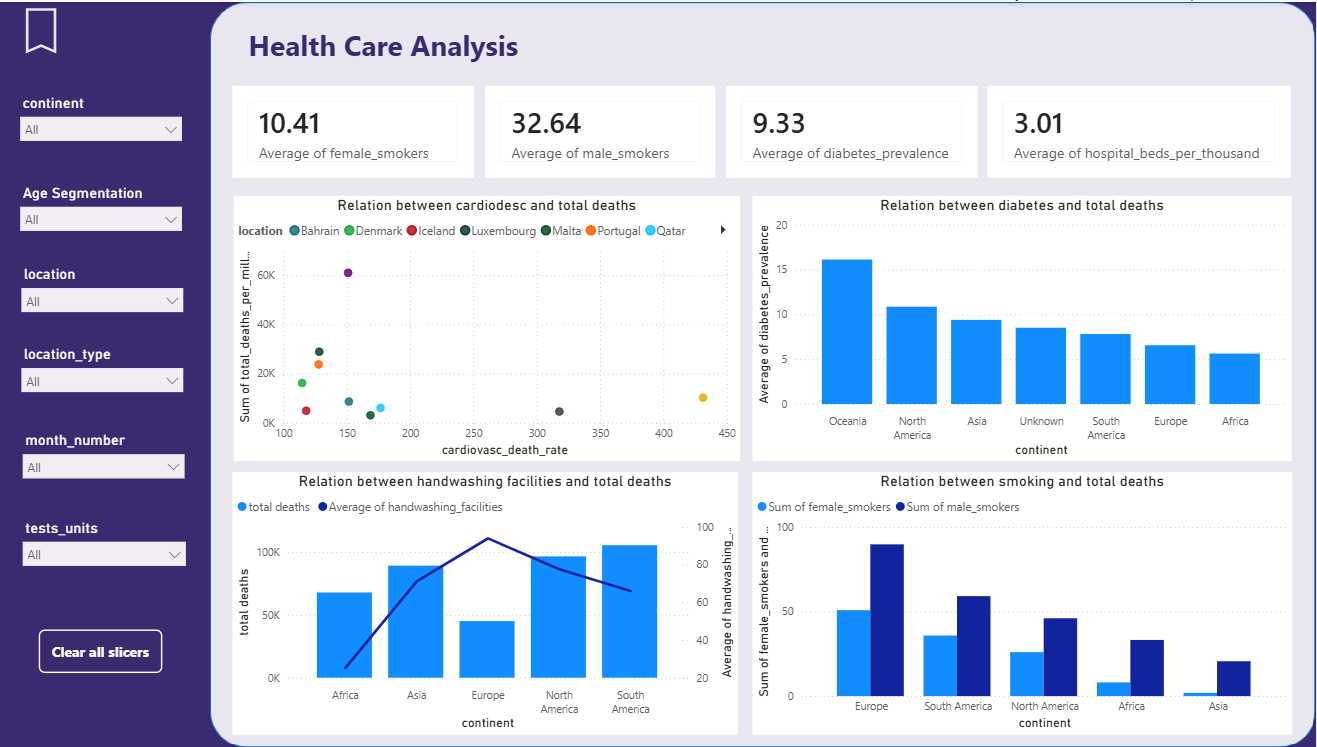

The page's visual inventory and layout, read from the dashboard file:
{"tool":"powerbi","page":{"name":"Health Care","canvas":[1500,850],"ordinal":6},"visuals":[{"type":"shape","box":[239.3,0,1260.5,850.3],"z":0},{"type":"actionButton","box":[15.7,0,132.5,65.5],"z":1000},{"type":"cardVisual","fields":{"Data":["Avg(dim_health.female_smokers)"]},"box":[265.3,94.9,275,104.5],"z":2000},{"type":"cardVisual","fields":{"Data":["Avg(dim_health.male_smokers)"]},"box":[553.2,94.9,262.1,104.5],"z":3000},{"type":"textbox","box":[266.9,22.5,340.9,62.7],"z":4000},{"type":"scatterChart","title":"Relation between cardiodesc and total deaths","fields":{"X":["dim_health.cardiovasc_death_rate"],"Y":["Sum(fact_corona.total_deaths_per_million)"],"Series":["dim_country.location"]},"box":[265.9,220.7,576.9,302.4],"z":5000},{"type":"actionButton","box":[44.2,715,141,49.8],"z":6000},{"type":"clusteredColumnChart","title":"Relation between smoking and total deaths","fields":{"Category":["dim_country.continent"],"Y":["Sum(dim_health.female_smokers)","Sum(dim_health.male_smokers)"]},"box":[857.5,535.4,614.9,299.1],"z":7000},{"type":"cardVisual","fields":{"Data":["Avg(dim_health.diabetes_prevalence)"]},"box":[828.2,94.9,286.2,104.5],"z":8000},{"type":"cardVisual","fields":{"Data":["Avg(dim_health.hospital_beds_per_thousand)"]},"box":[1125.6,94.9,345.7,104.5],"z":9000},{"type":"slicer","fields":{"Values":["dim_country.continent"]},"box":[12.9,99.7,204.2,77.2],"z":10000},{"type":"slicer","fields":{"Values":["dim_demographics.Age Segmentation"]},"box":[12.9,202.6,204.2,77.2],"z":11000},{"type":"slicer","fields":{"Values":["dim_country.location"]},"box":[14.5,294.3,204.2,77.2],"z":12000},{"type":"slicer","fields":{"Values":["dim_country.location_type"]},"box":[14.5,385.9,204.2,77.2],"z":13000},{"type":"slicer","fields":{"Values":["dim_date.month_number"]},"box":[16.1,484,204.2,77.2],"z":14000},{"type":"slicer","fields":{"Values":["fact_corona.tests_units"]},"box":[16.1,583.7,205.8,77.2],"z":15000},{"type":"lineClusteredColumnComboChart","title":"Relation between handwashing facilities and total deaths ","fields":{"Category":["dim_country.continent","dim_country.location"],"Y":["Sum(fact_corona.total_deaths_per_million)"],"Y2":["Avg(dim_health.handwashing_facilities)"]},"box":[265.3,535.5,575.7,299.1],"z":16000},{"type":"clusteredColumnChart","title":"Relation between diabetes and total deaths ","fields":{"Category":["dim_country.continent"],"Y":["Avg(dim_health.diabetes_prevalence)1"]},"box":[857.1,220.3,614.3,302.3],"z":17000}]}

Visuals, with their boxes in screenshot pixels (x1, y1, x2, y2), scaled from the page's 1500x850 canvas onto the 1317x747 screenshot:
shape: detection(210, 0, 1316, 746)
actionButton: detection(14, 0, 130, 58)
cardVisual - Avg(dim_health.female_smokers): detection(233, 83, 474, 175)
cardVisual - Avg(dim_health.male_smokers): detection(486, 83, 716, 175)
textbox: detection(234, 20, 534, 75)
"Relation between cardiodesc and total deaths" scatterChart: detection(233, 194, 740, 460)
actionButton: detection(39, 628, 163, 672)
"Relation between smoking and total deaths" clusteredColumnChart: detection(753, 471, 1293, 733)
cardVisual - Avg(dim_health.diabetes_prevalence): detection(727, 83, 978, 175)
cardVisual - Avg(dim_health.hospital_beds_per_thousand): detection(988, 83, 1292, 175)
slicer - dim_country.continent: detection(11, 88, 191, 155)
slicer - dim_demographics.Age Segmentation: detection(11, 178, 191, 246)
slicer - dim_country.location: detection(13, 259, 192, 326)
slicer - dim_country.location_type: detection(13, 339, 192, 407)
slicer - dim_date.month_number: detection(14, 425, 193, 493)
slicer - fact_corona.tests_units: detection(14, 513, 195, 581)
"Relation between handwashing facilities and total deaths " lineClusteredColumnComboChart: detection(233, 471, 738, 733)
"Relation between diabetes and total deaths " clusteredColumnChart: detection(753, 194, 1292, 459)
